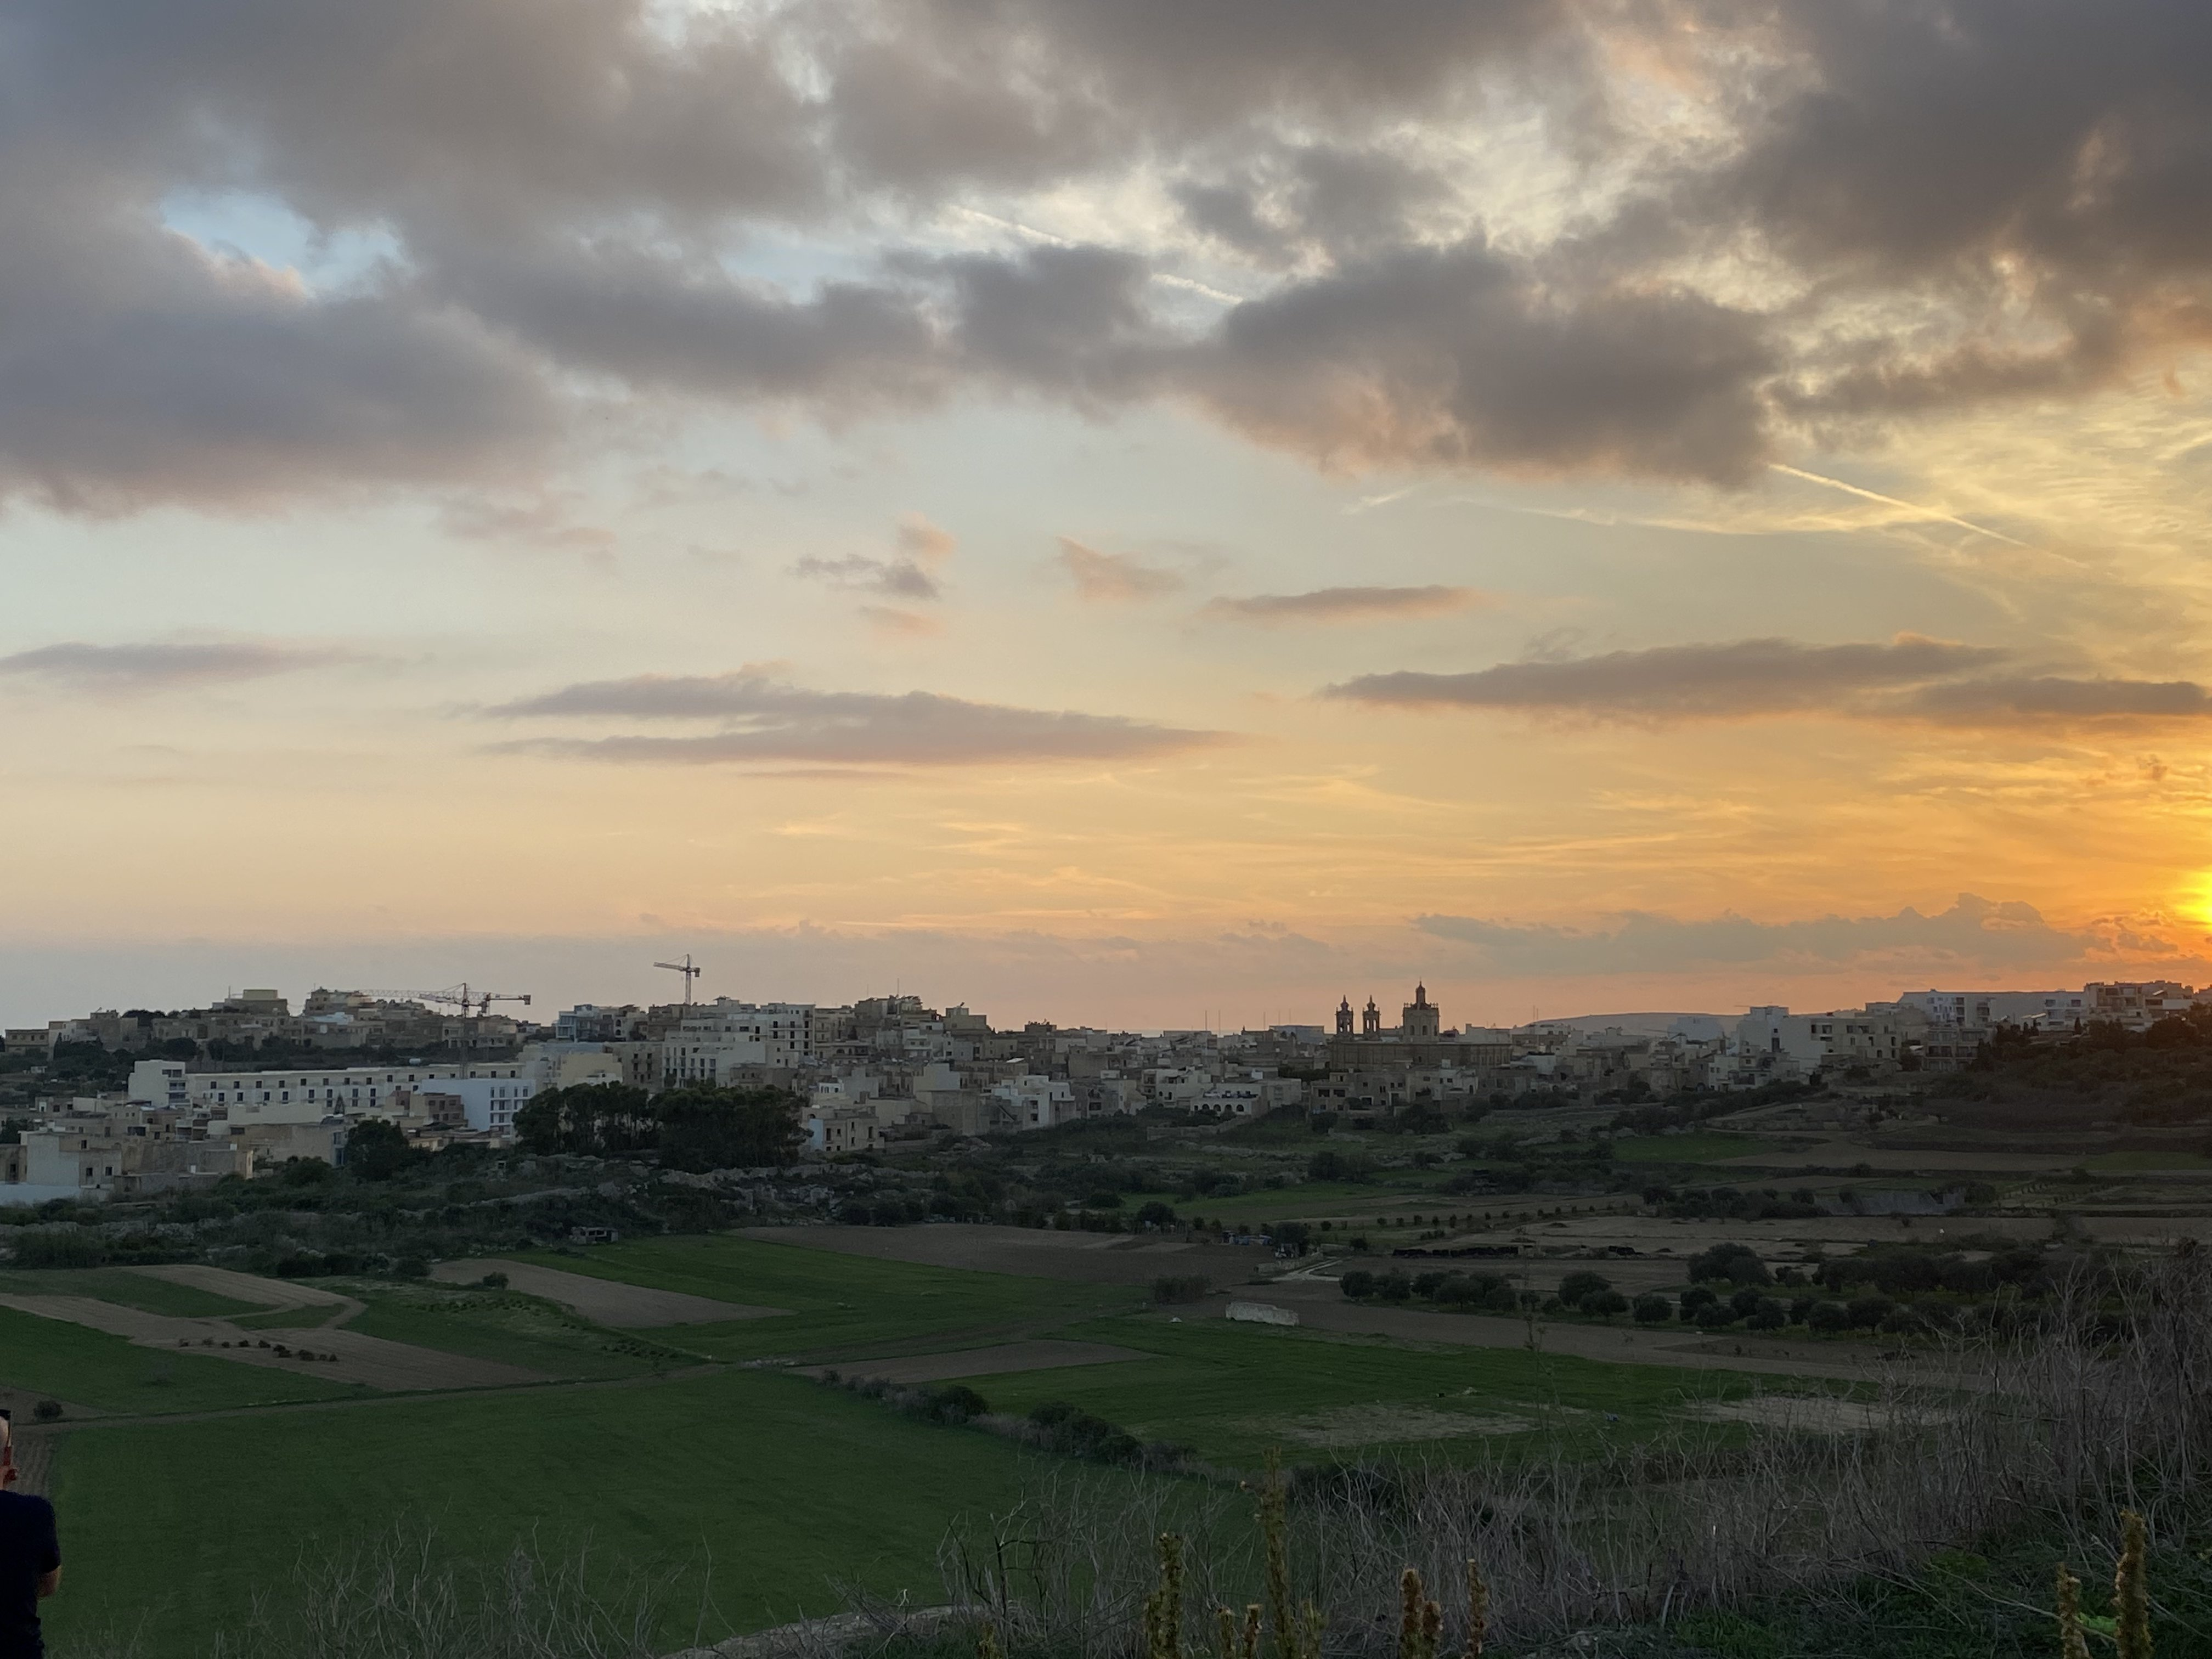crane: (646, 946, 733, 997)
